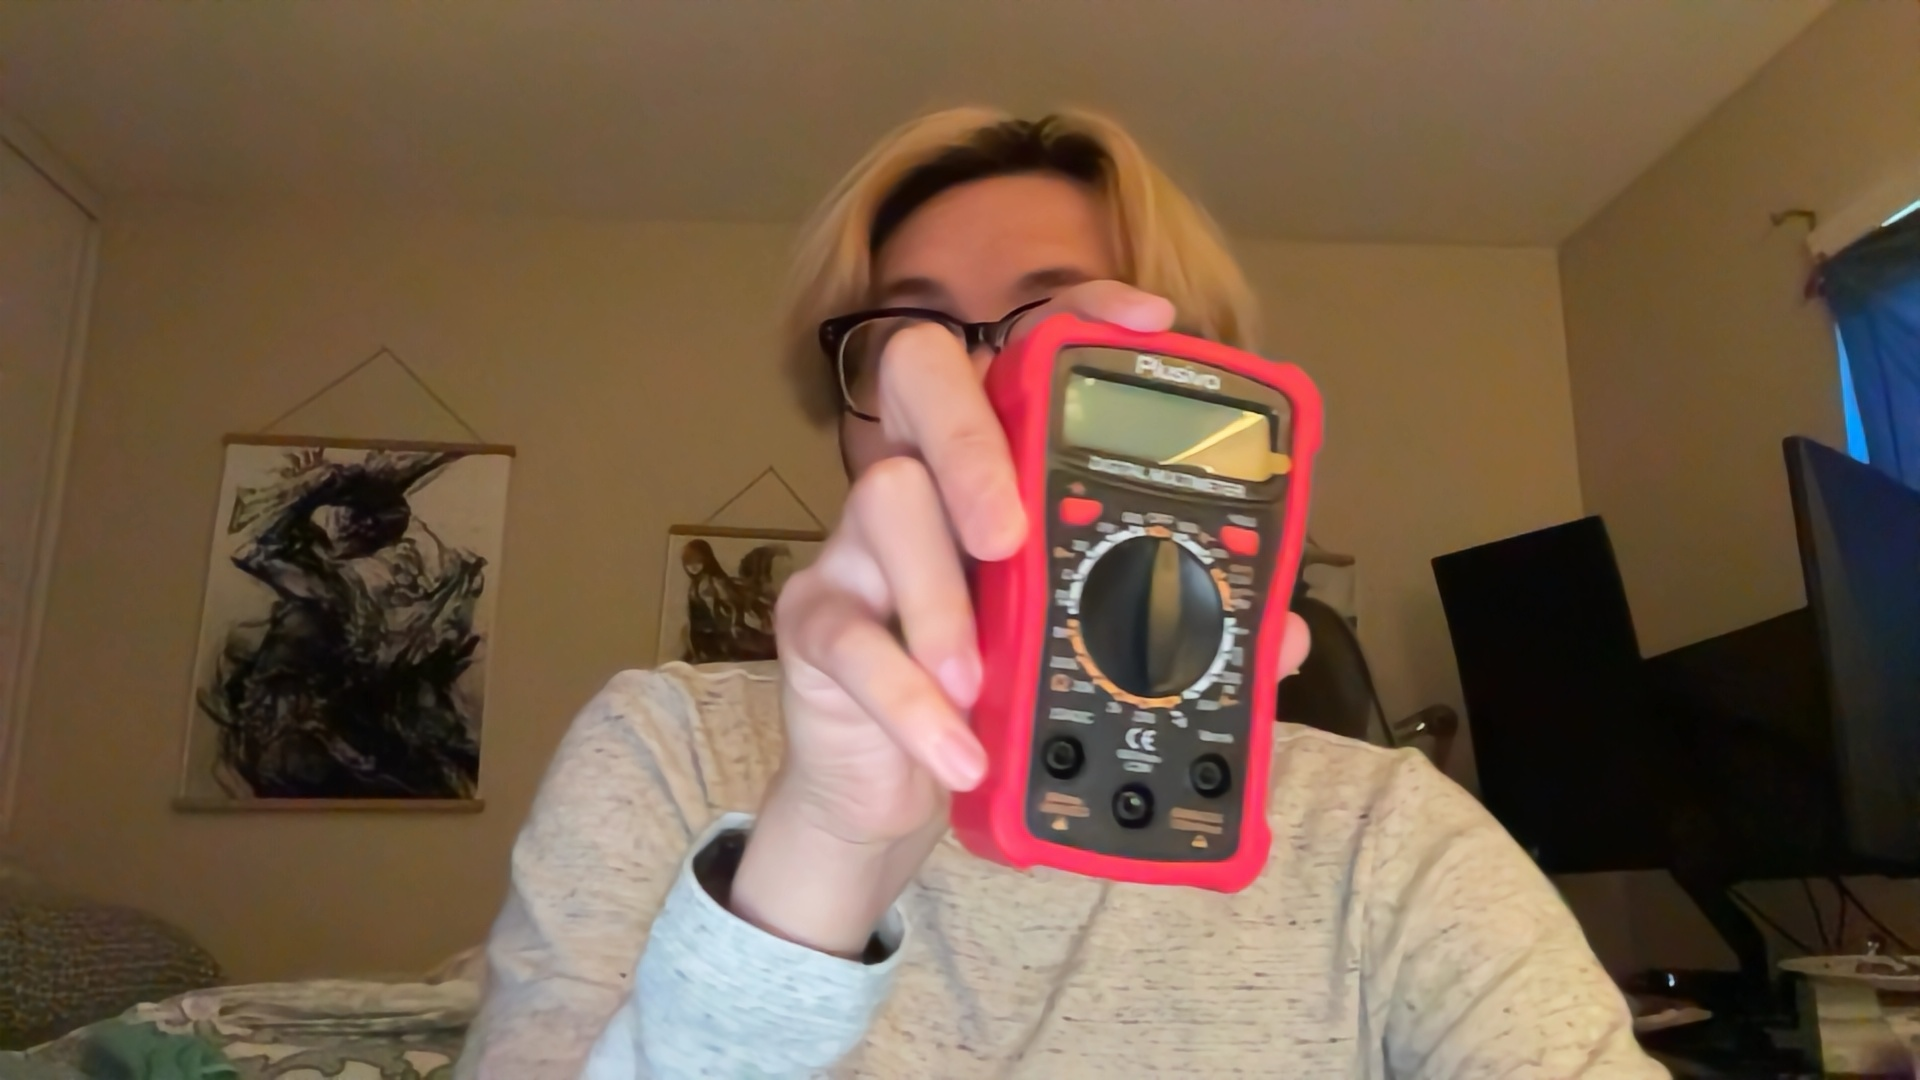multimeter: (953, 298, 1336, 906)
